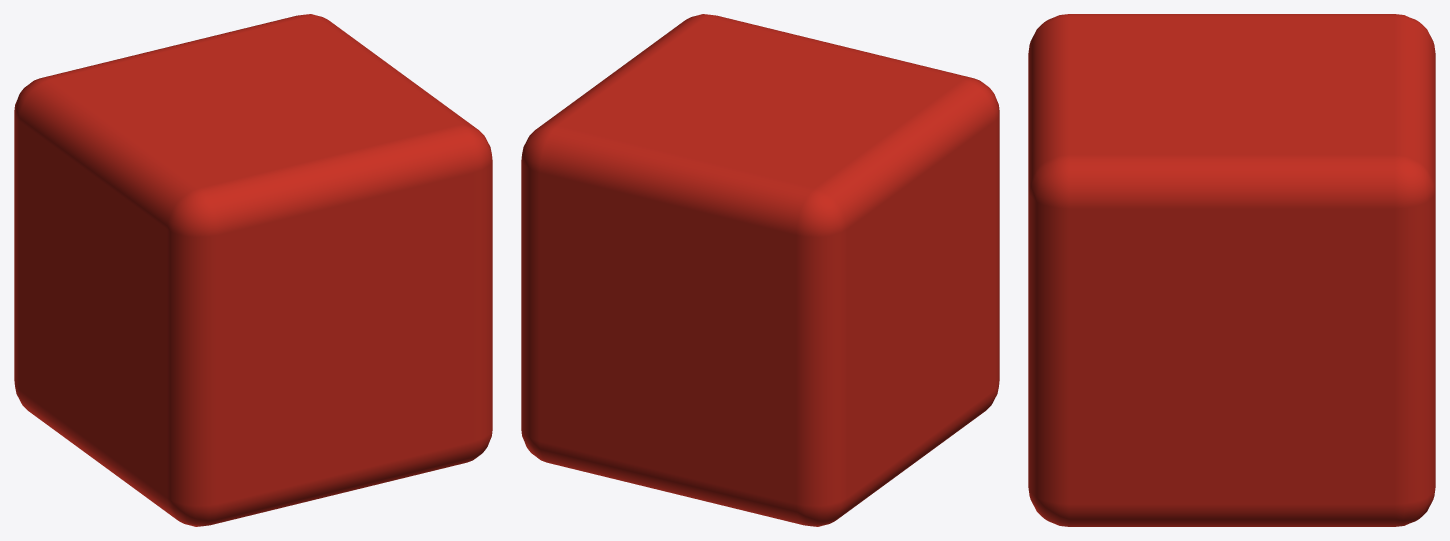
The model's file is lacquer.gltf.
The picture shows the model from 3 angles, left to right: view 1: azimuth 30°, elevation 25°; view 2: azimuth 150°, elevation 25°; view 3: azimuth 270°, elevation 25°; orthographic projection. The views are drawn at different scales.
Parts seen in each view (by area): view 1: lacquer; view 2: lacquer; view 3: lacquer.
Boxes of the visible parts, x1,y1,x2,y2 form: lacquer: [14, 14, 492, 526]; lacquer: [521, 14, 999, 526]; lacquer: [1028, 14, 1435, 526].
Size of the model in its own units: 1 by 1 by 1.
